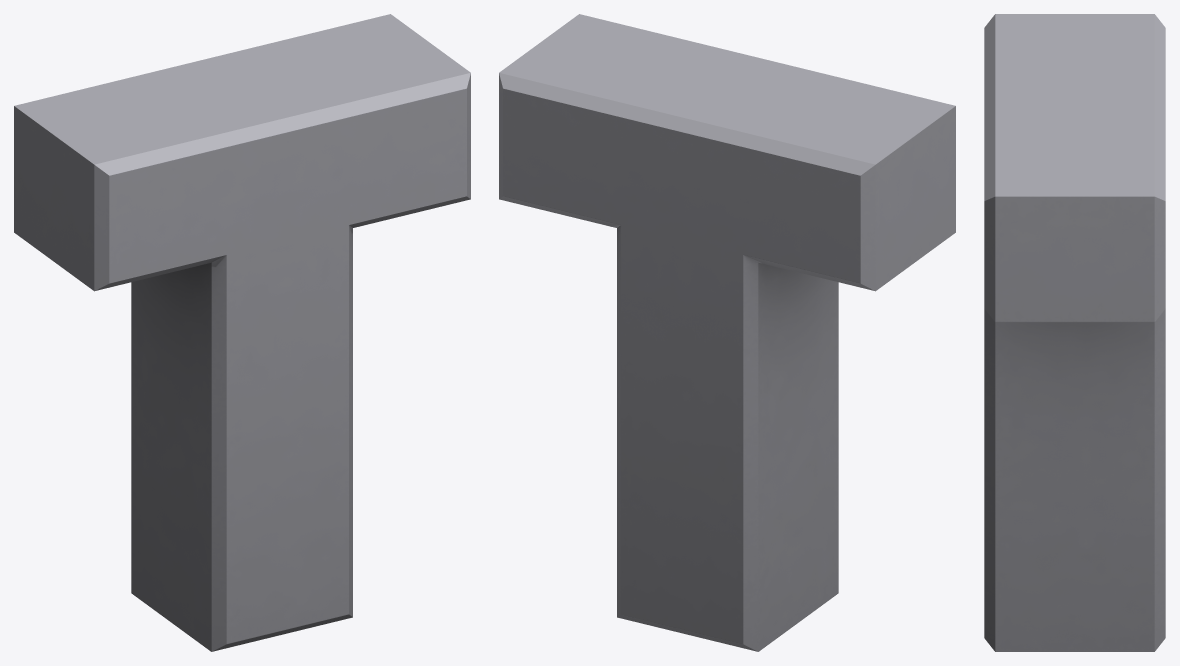
File: T_static.fbx
3 renders of one model, left to right at view 1: azimuth 30°, elevation 25°; view 2: azimuth 150°, elevation 25°; view 3: azimuth 270°, elevation 25°, orthographic.
Parts seen in each view (by area): view 1: T_static; view 2: T_static; view 3: T_static.
Part boxes in pixels (<box>): T_static: <box>14,14,470,651</box>; T_static: <box>499,14,955,651</box>; T_static: <box>984,14,1165,651</box>.
Size of the model in its own units: 78.54 by 103 by 33.
